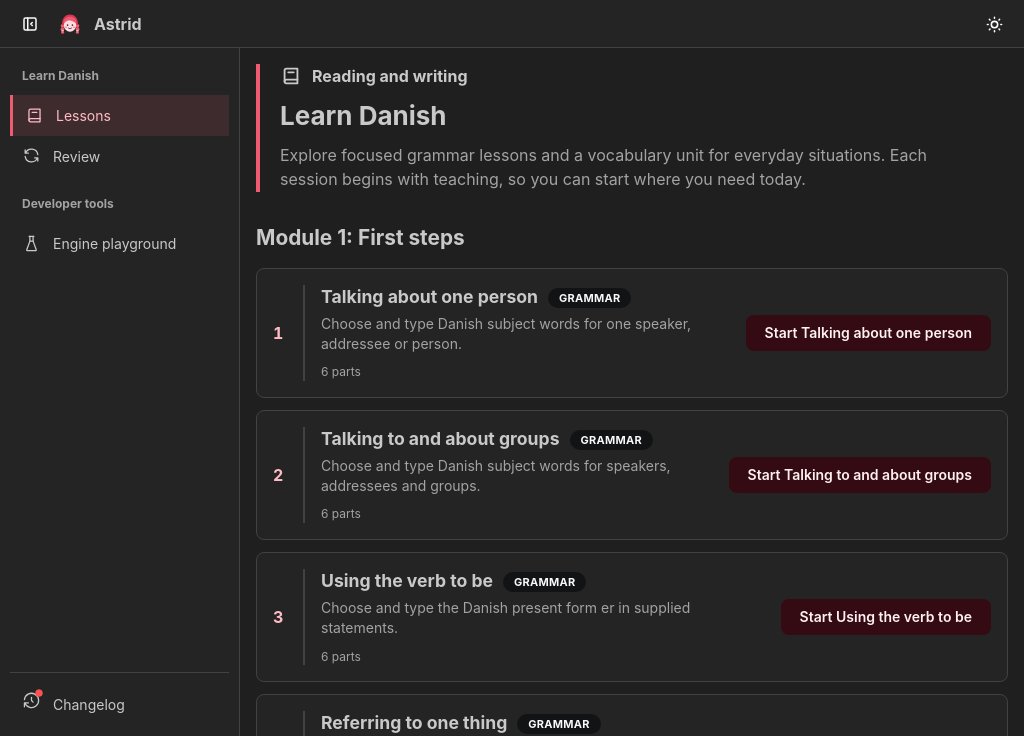
App theme › reports the effective dark preference and switches the whole document to explicit light
Click the button named "Use light theme".
click(994, 24)  # box [980,10,1008,38]
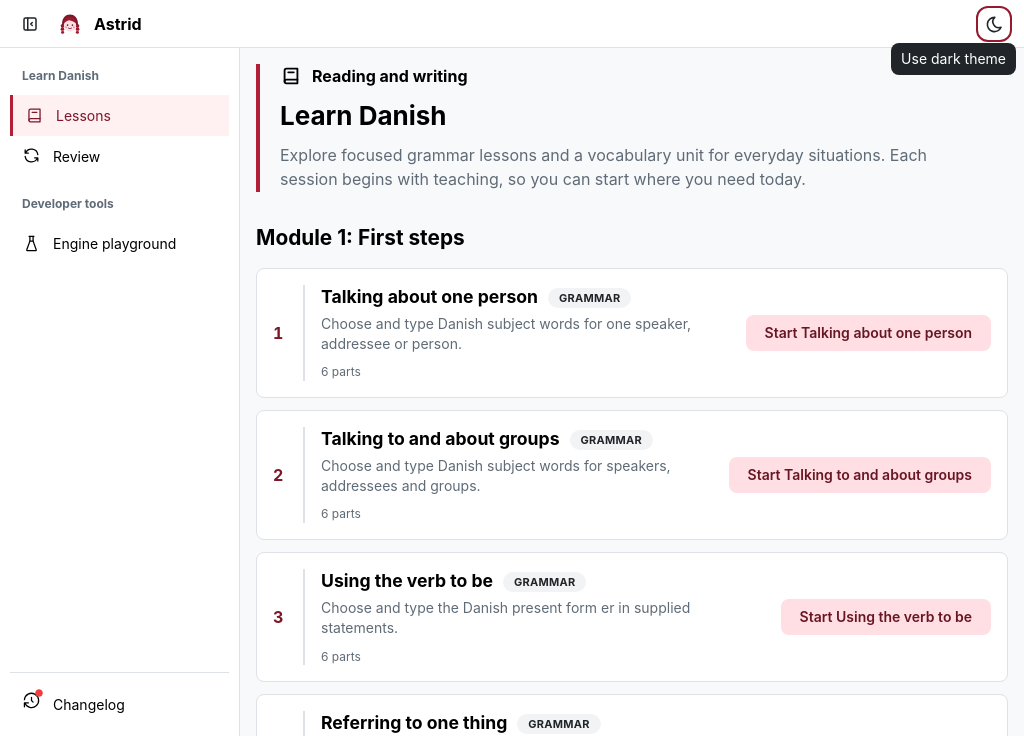
Now the button named "Use dark theme" is shown, box [980,10,1008,38]
